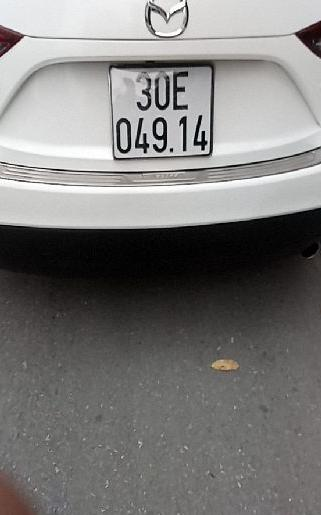Plate-iWeP: (108, 63, 214, 160)
